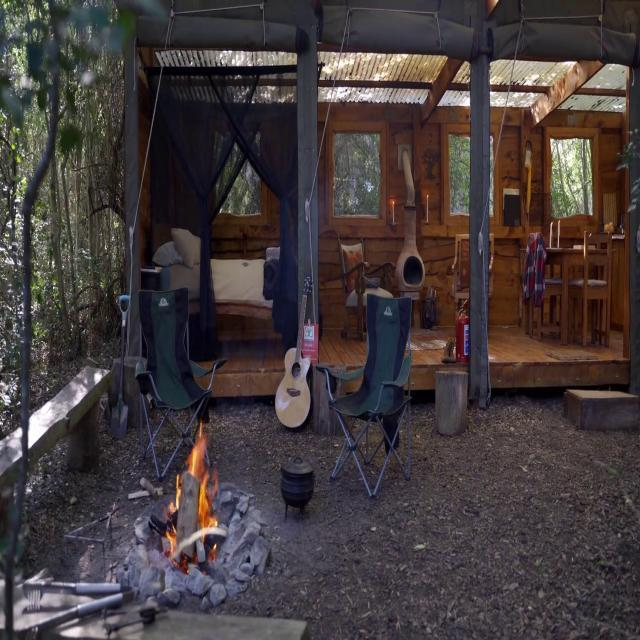Fire: (165, 418, 220, 556)
